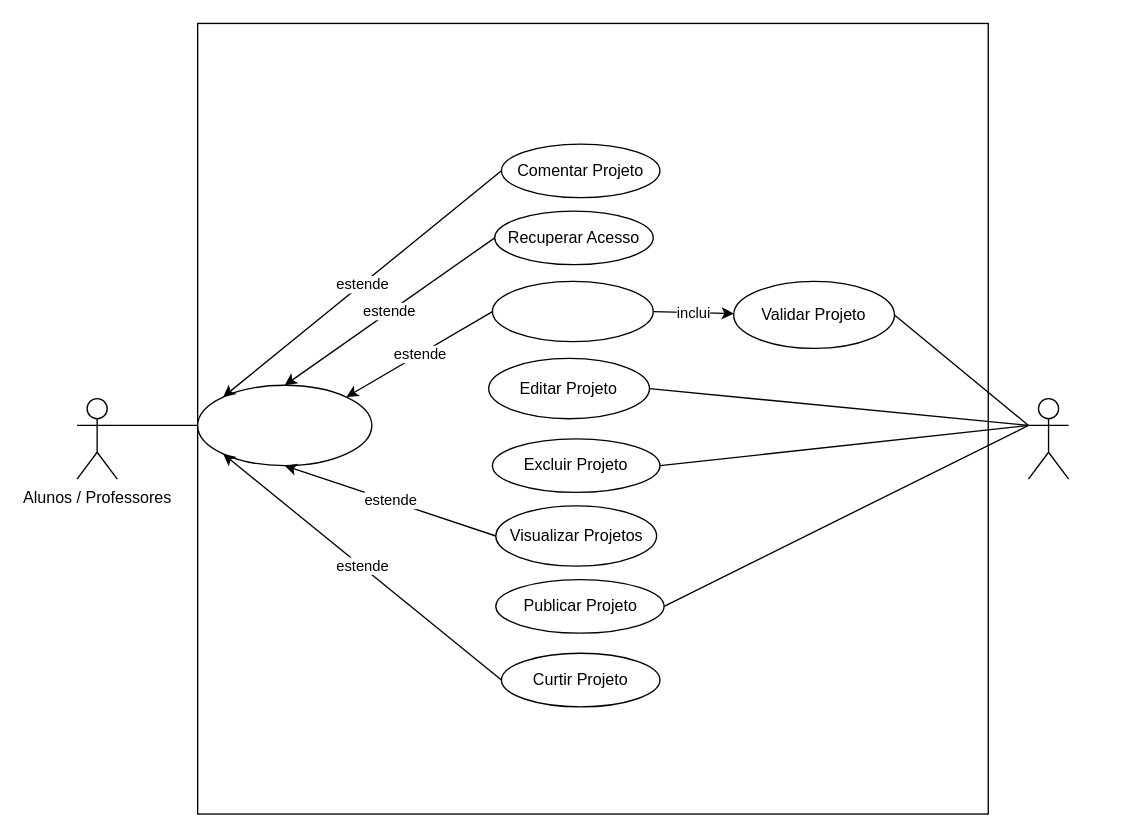
Some shapes in this 1122 by 838 pixel diagram are drawn without their labels. The shapes that lost their labels are listed below. From the top down, each one's box as (x1, y1, x2, y2) in pixels, then its label:
(491, 280, 653, 342): Criar Projeto
(196, 384, 372, 466): Fazer Login
(1027, 397, 1069, 479): Administrador
